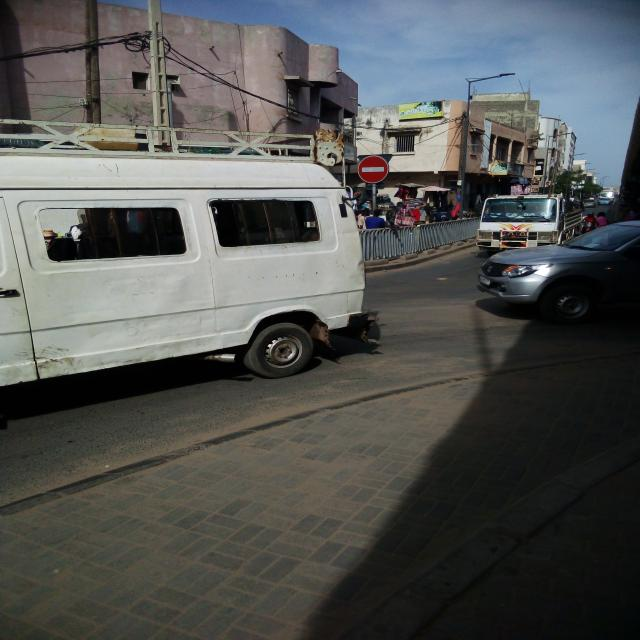camion: (478, 196, 581, 255)
ndiaga ndiaye: (3, 157, 364, 385)
particulier: (479, 222, 640, 325), (584, 199, 598, 209), (598, 199, 614, 206)
